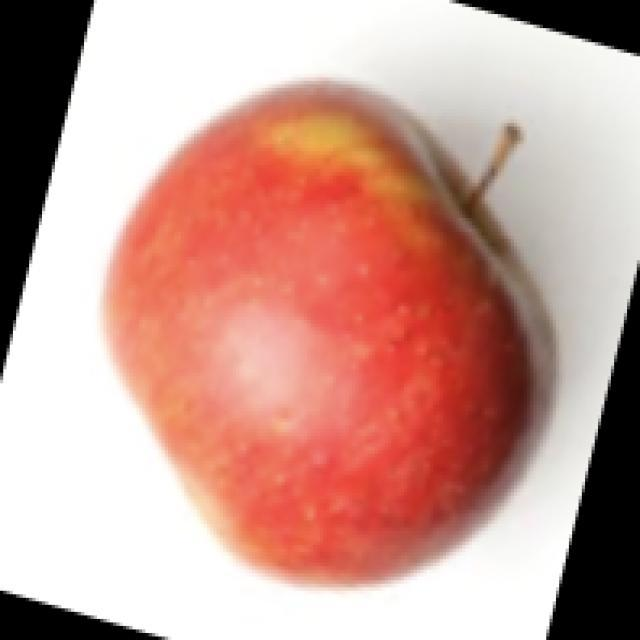Fresh Apple: (108, 88, 552, 577)
